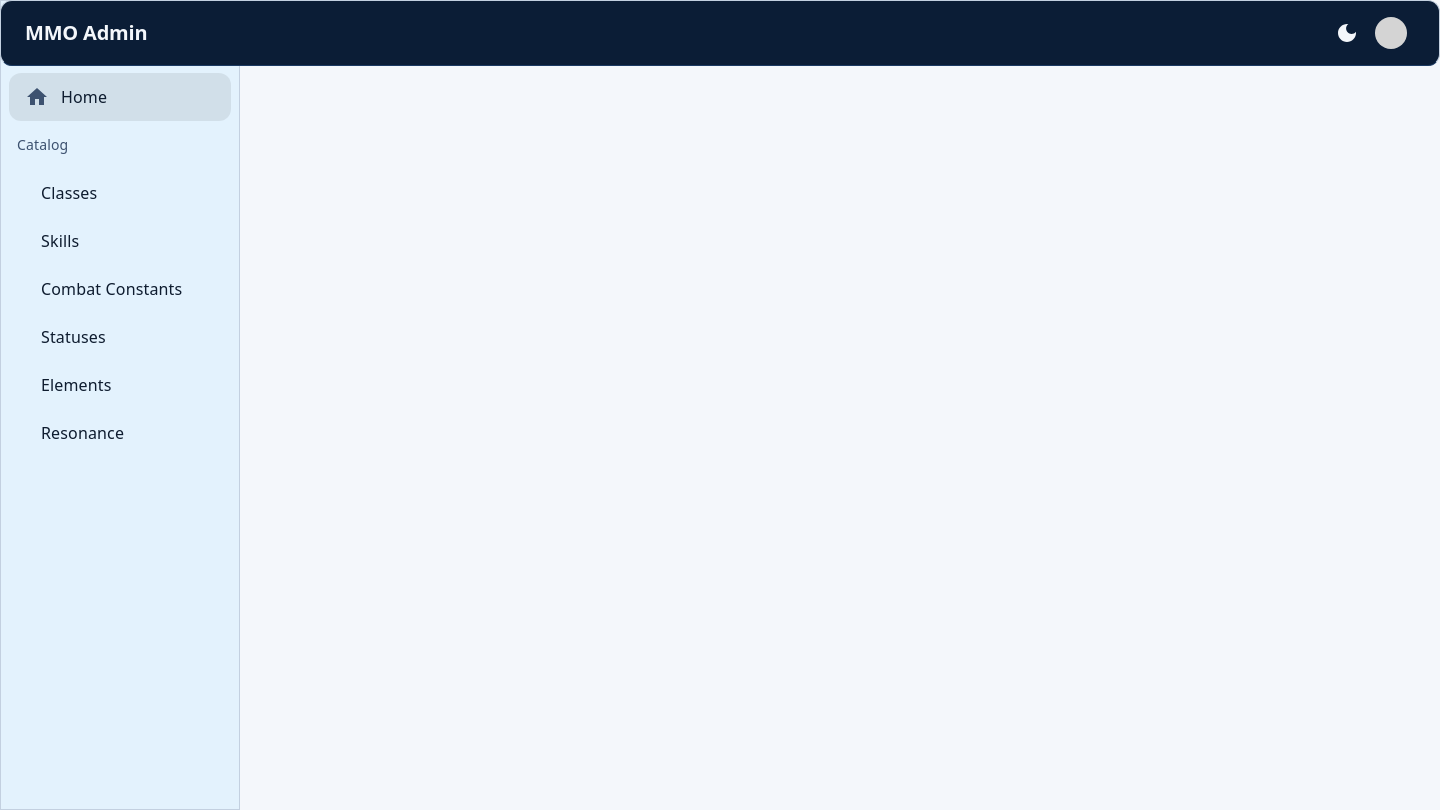
Test: Layout › opens account menu when avatar is clicked
Click the button named "account menu". click: (1391, 33)
box: [1367,9,1415,57]
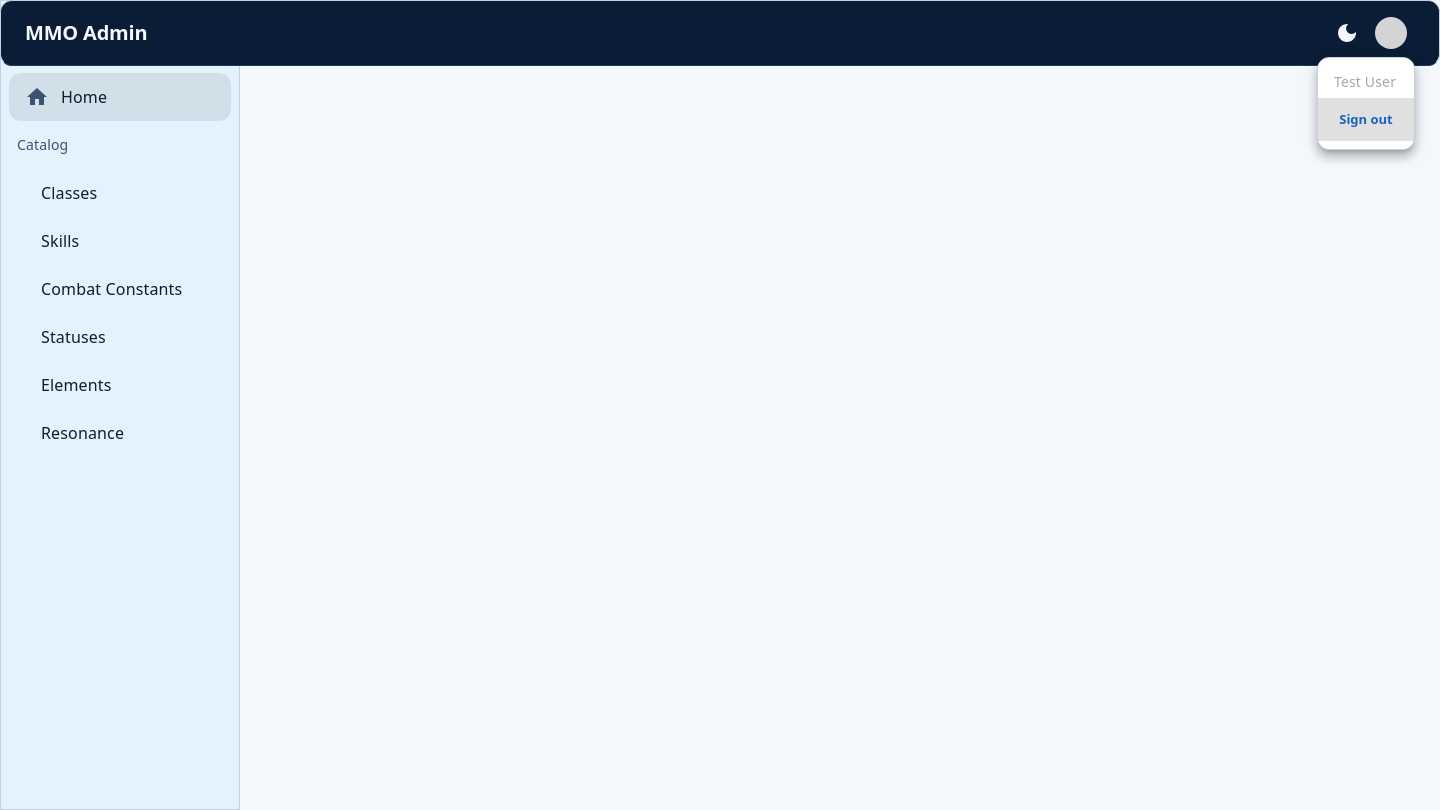
expect the text "Test User" is shown: met, box [1334,72,1396,92]
expect the button "Sign out" is shown: met, box [1334,104,1398,135]
